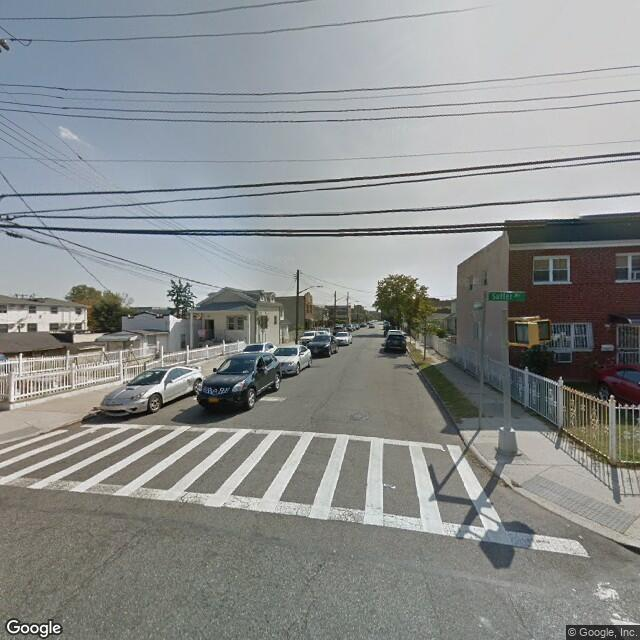litter: (383, 476, 403, 500)
